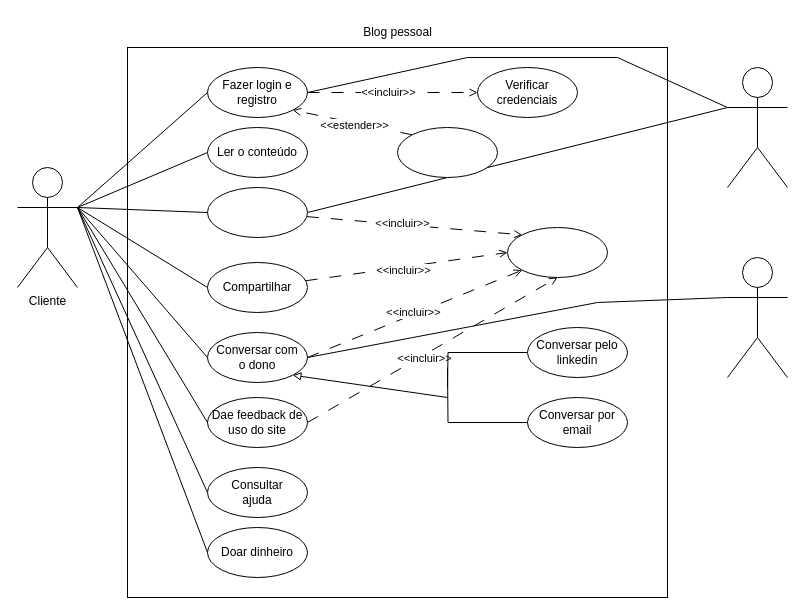
This 805x615 diagram has some shape labels left out. Here are the shapes that lost their labels. From the top down, the box of each, then its label:
(726, 66, 788, 188): Servidor
(396, 126, 498, 178): Erro de credenciais
(206, 186, 308, 238): Comentar e curtir
(506, 226, 608, 278): Verificar sessão de login
(726, 256, 788, 378): Dono
